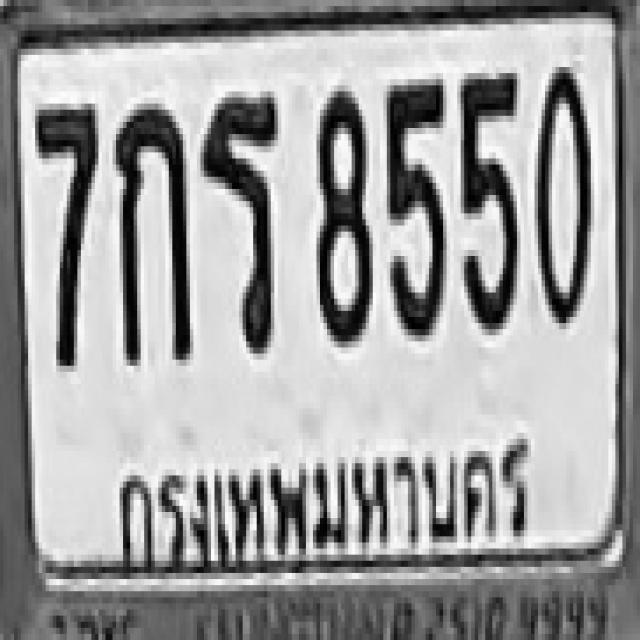0: (534, 61, 591, 323)
10GorGai: (112, 100, 190, 362)
44RorRuea: (200, 91, 278, 348)
5: (457, 67, 517, 329), (383, 79, 443, 335)
7: (33, 100, 97, 368)
8: (313, 86, 369, 342)
Bangkok: (106, 431, 544, 572)
